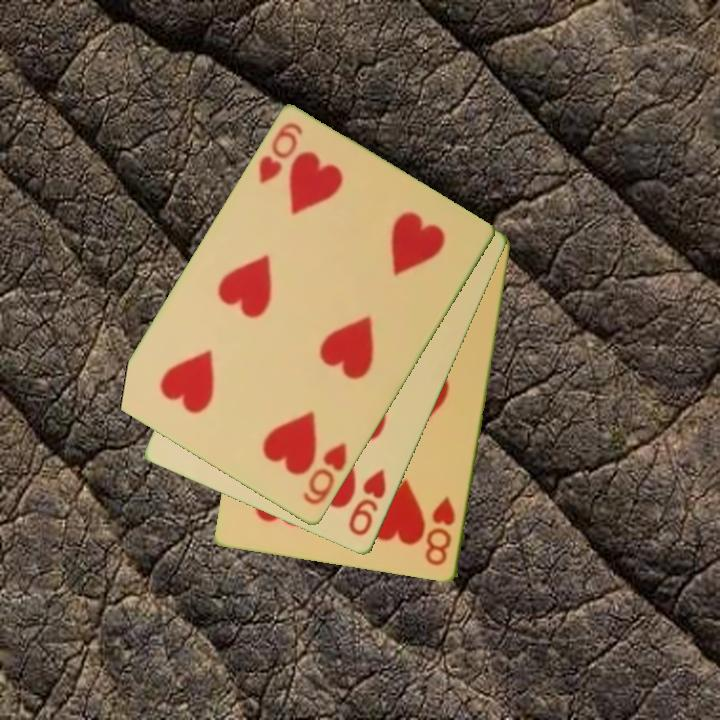6h: (299, 439, 350, 509), (255, 119, 306, 187)
8h: (422, 493, 459, 569)
9h: (345, 465, 390, 540)
